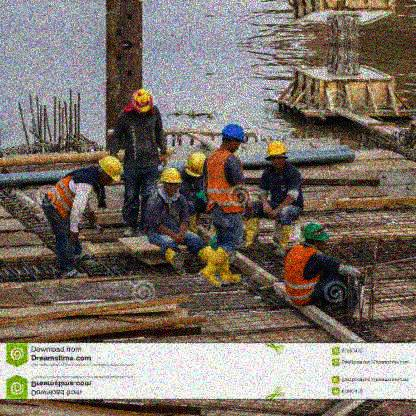helmet: (95, 154, 122, 187), (302, 223, 330, 251), (159, 168, 183, 199), (221, 123, 245, 154), (264, 141, 287, 172), (131, 89, 155, 116), (186, 153, 207, 181)
